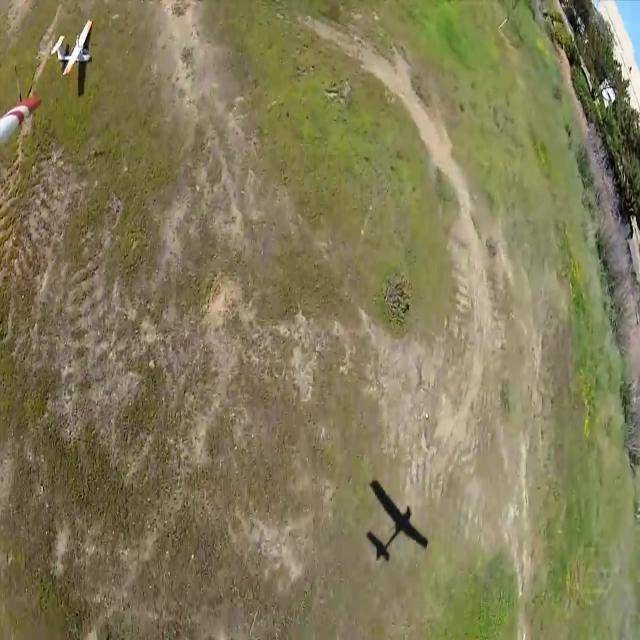iha: (0, 20, 23, 77)
